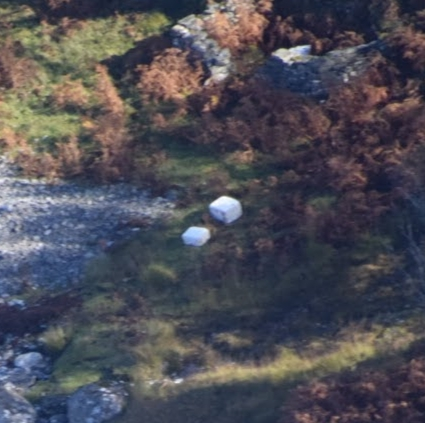cuboid: (204, 191, 250, 227), (177, 221, 216, 251)
